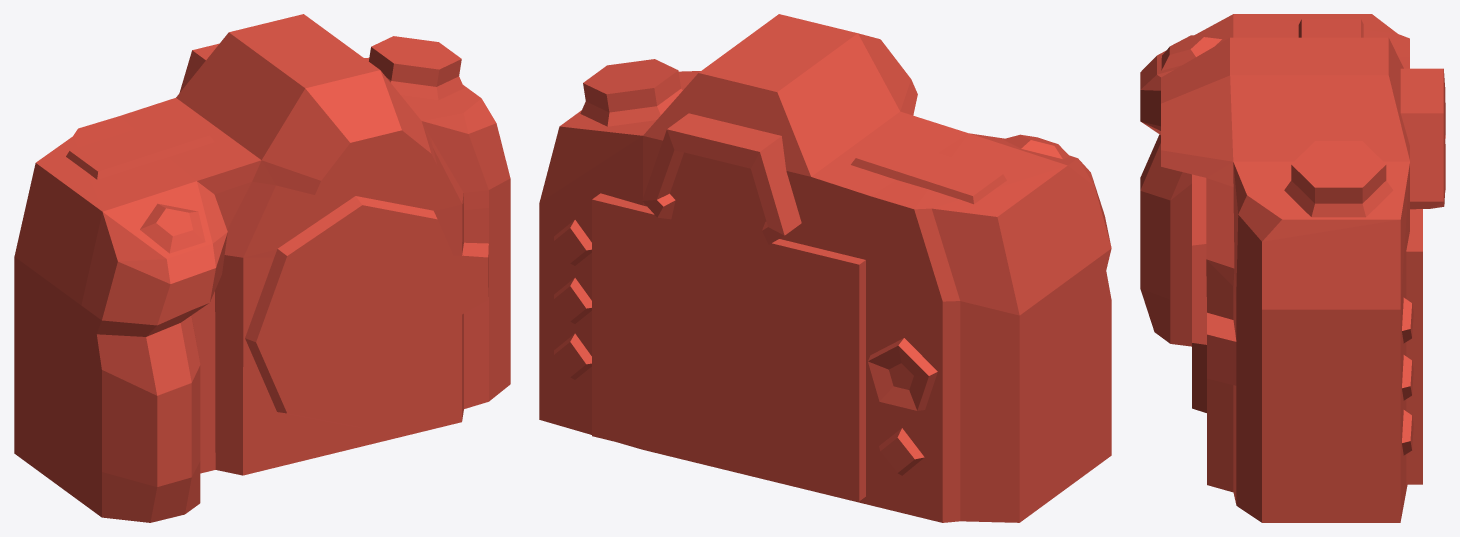
The model's file is SM_Camera_Dslr.fbx.
3 views of the same model, side by side, from view 1: azimuth 30°, elevation 25°; view 2: azimuth 150°, elevation 25°; view 3: azimuth 270°, elevation 25° (orthographic). The views are drawn at different scales.
Parts seen in each view (by area): view 1: SM_Camera_Dslr; view 2: SM_Camera_Dslr; view 3: SM_Camera_Dslr.
Boxes of the visible parts, x1,y1,x2,y2 form: SM_Camera_Dslr: (14, 14, 510, 522); SM_Camera_Dslr: (539, 14, 1111, 522); SM_Camera_Dslr: (1140, 14, 1445, 522).
Size of the model in its own units: 8.39 by 14.55 by 11.34.
